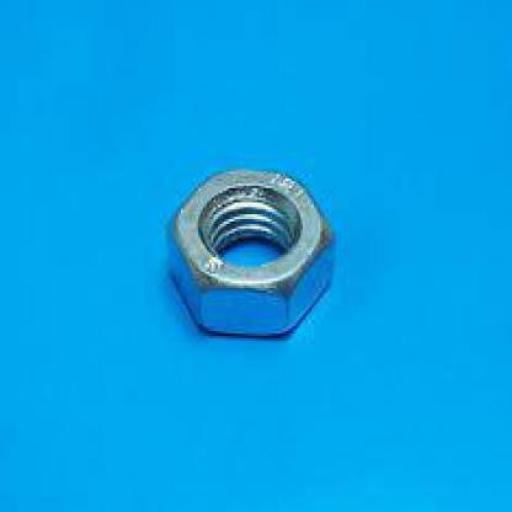Nut: (165, 169, 337, 337)
